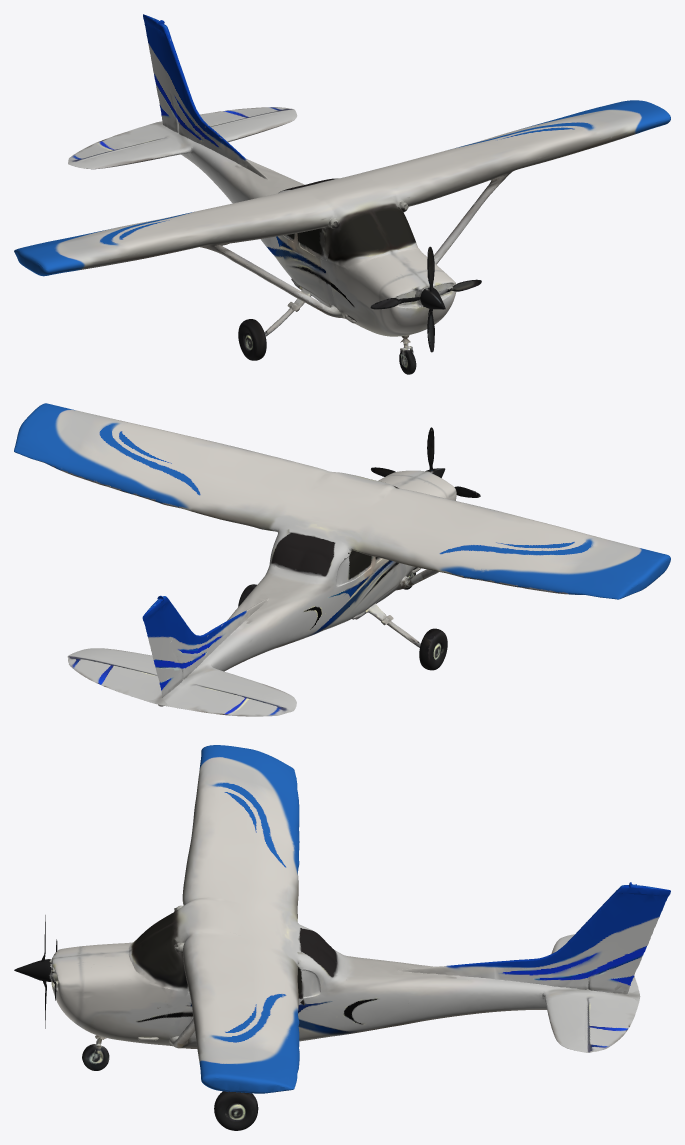
Rendered from TA_Realistic_Plane.glb.
3 views of the same model, one above another, from view 1: azimuth 30°, elevation 25°; view 2: azimuth 150°, elevation 25°; view 3: azimuth 270°, elevation 25° (orthographic). The views are drawn at different scales.
Parts seen in each view (by area): view 1: model, model.001; view 2: model, model.001; view 3: model, model.001.
Part boxes in pixels (x1,y1,x2,y2): model: (14, 14, 670, 374); model.001: (370, 246, 481, 352); model: (14, 403, 670, 716); model.001: (371, 427, 480, 497); model: (51, 745, 670, 1130); model.001: (14, 915, 57, 1028).
Size of the model in its own units: 4 by 1.12 by 3.33.
Materials: 1 (1 with a texture image).
